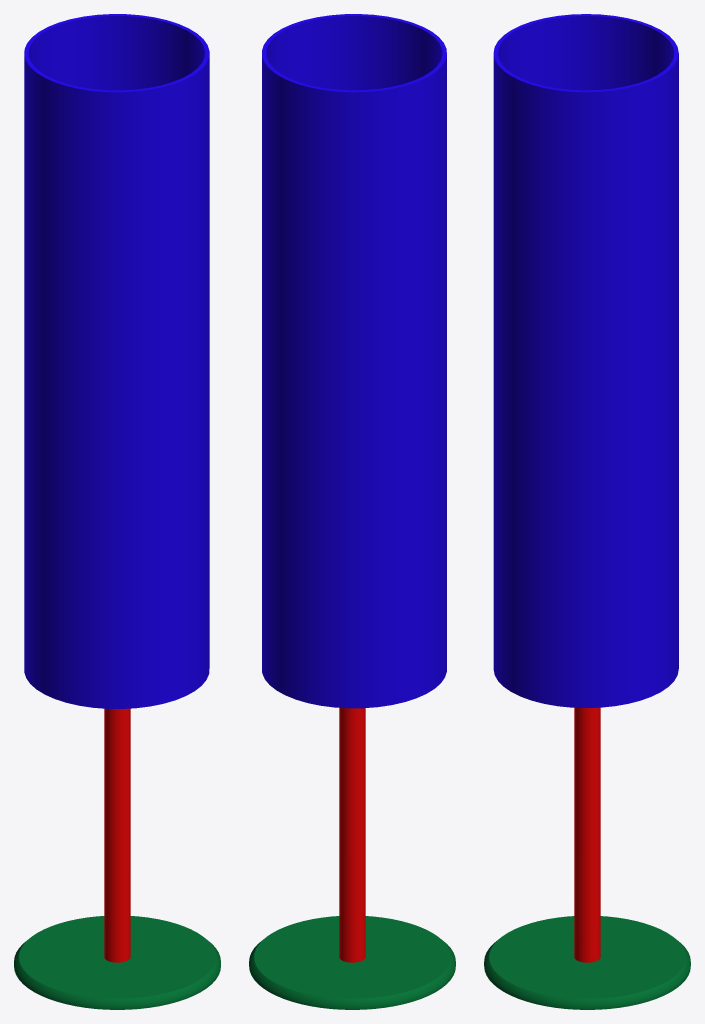
File: FloorLamp.fbx
The picture shows the model from 3 angles, left to right: view 1: azimuth 30°, elevation 25°; view 2: azimuth 150°, elevation 25°; view 3: azimuth 270°, elevation 25°; orthographic projection.
Visible parts, largest first — view 1: FloorLamp001; view 2: FloorLamp001; view 3: FloorLamp001.
Part boxes in pixels (x1,y1,x2,y2): FloorLamp001: (14, 14, 220, 1009); FloorLamp001: (249, 14, 455, 1009); FloorLamp001: (484, 14, 690, 1009).
Bounding box in the file's own units: 28.72 × 140 × 28.72.
